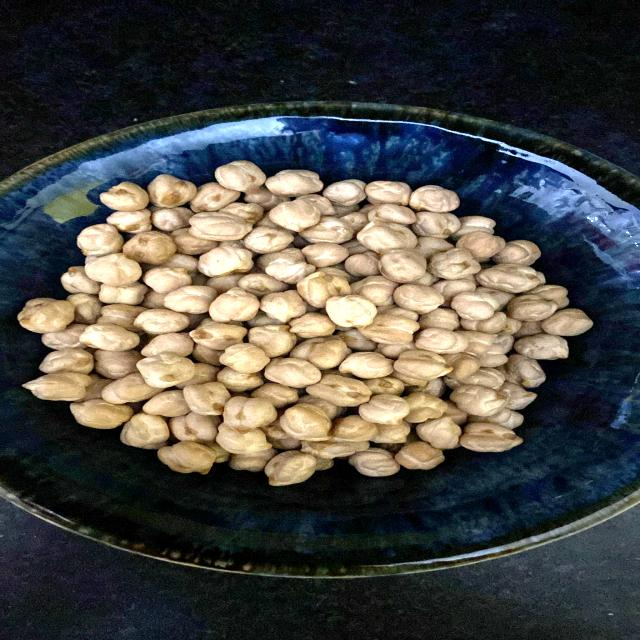chickpeas: (15, 134, 640, 532)
